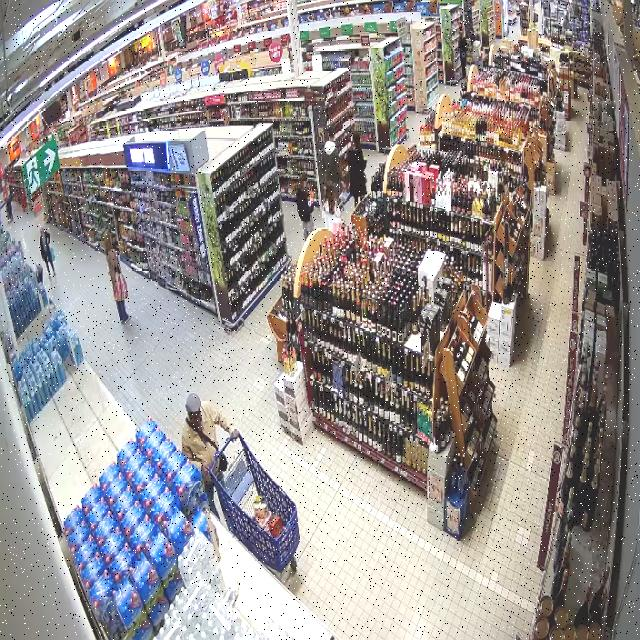bags: (114, 272, 129, 301)
hands: (229, 427, 241, 440), (201, 463, 209, 479)
person: (181, 392, 238, 517), (105, 231, 130, 322), (296, 173, 314, 239)
